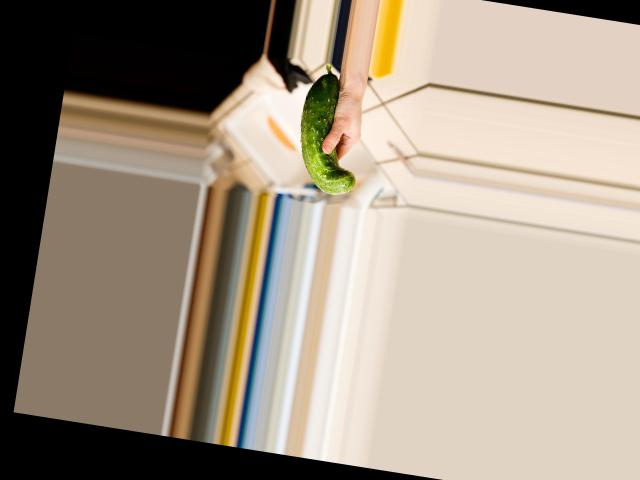cucumber: (289, 61, 372, 197)
